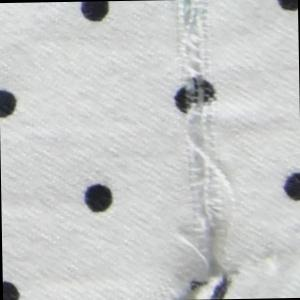Damage: (161, 1, 239, 300)
